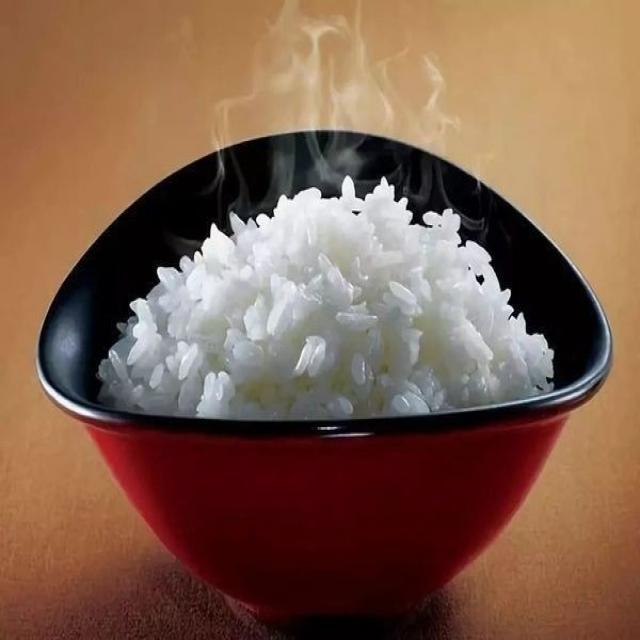Chicken -Chicken Inasal-: (160, 186, 537, 415)
